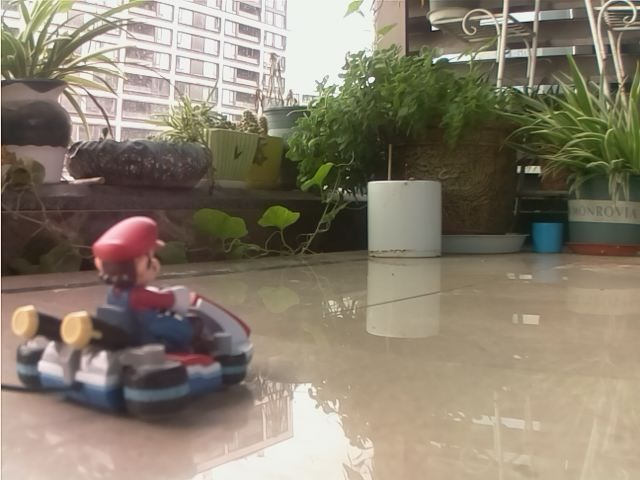mario: (13, 214, 263, 429)
